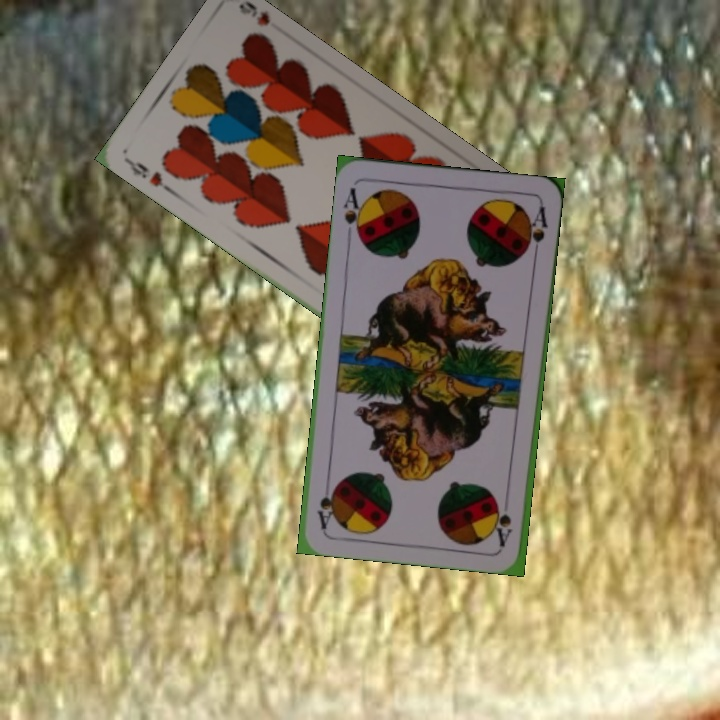H9: (123, 155, 175, 195)
SA: (339, 183, 367, 242), (493, 504, 515, 548)
